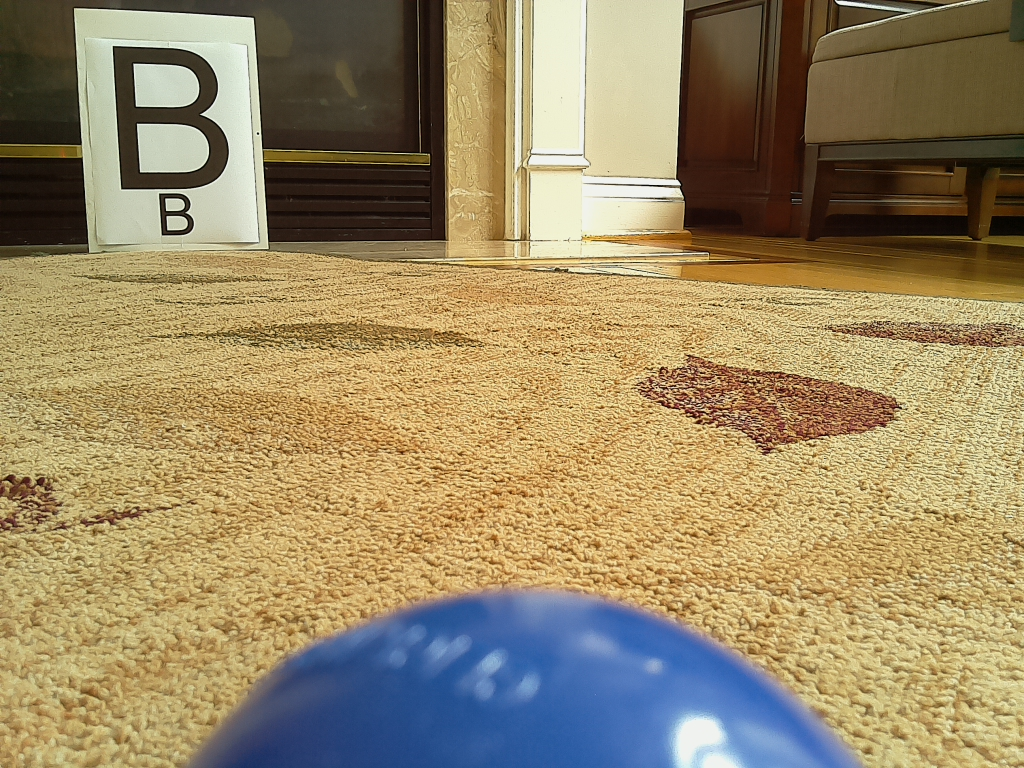letter: (112, 46, 230, 191)
